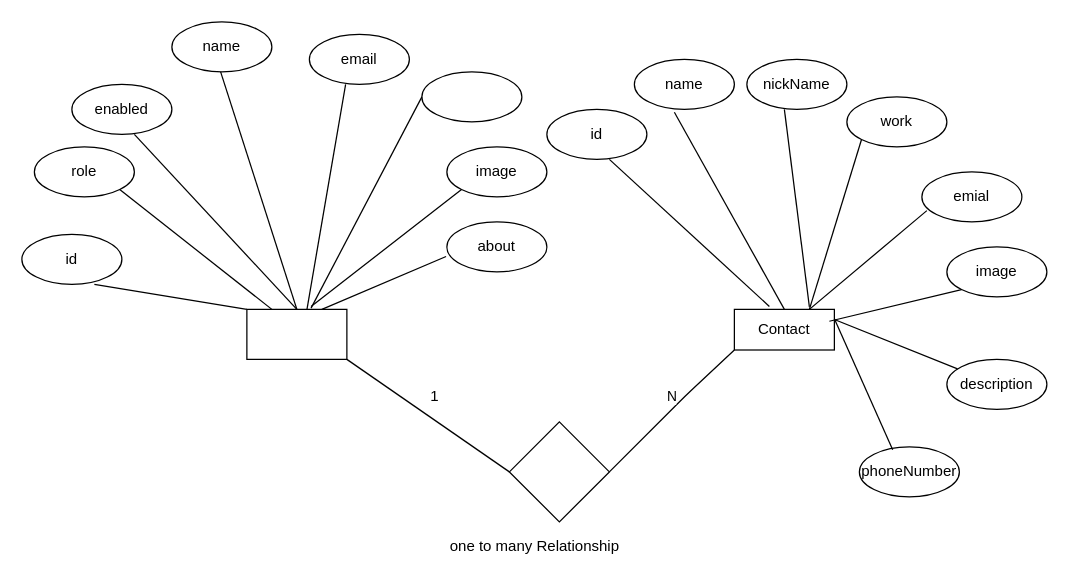
Image size: 1069x581. Some labels were removed from this diagram. Here are the shapes that lost their labels. From the top down, the box of each, then its label:
(421, 71, 522, 122): password
(246, 308, 347, 359): User
(508, 421, 609, 522): has
